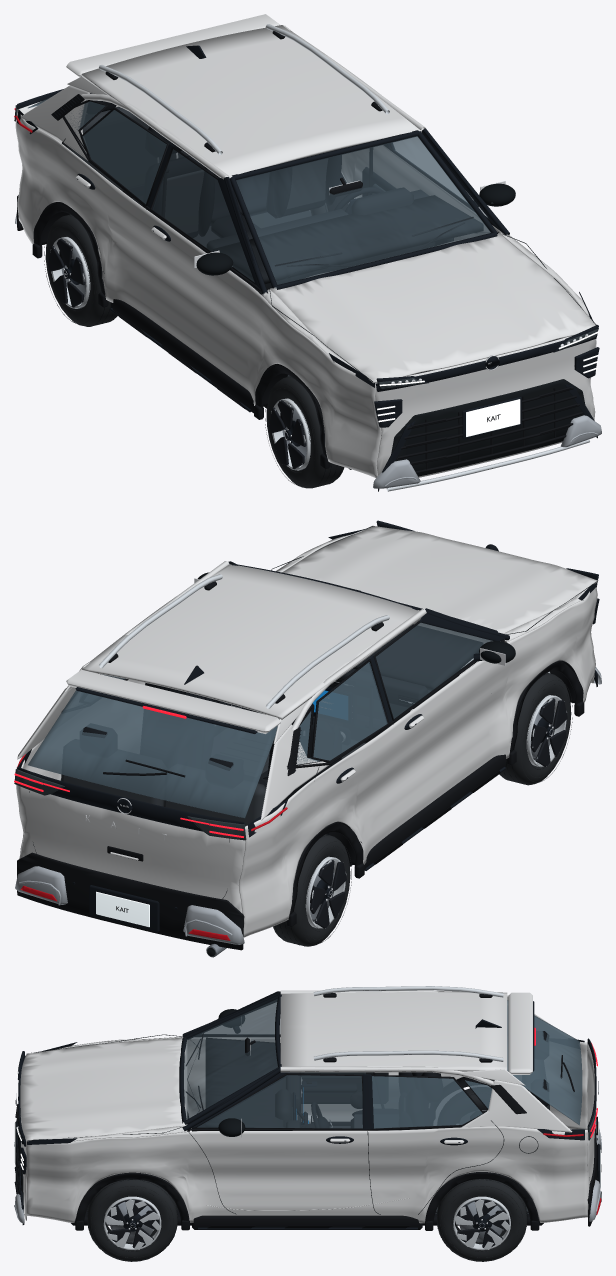
The model's file is kait.glb.
3 renders of one model, top to bottom at view 1: azimuth 30°, elevation 25°; view 2: azimuth 150°, elevation 25°; view 3: azimuth 270°, elevation 25°, orthographic. The views are drawn at different scales.
Visible parts, largest first — view 1: Nissan Kait; view 2: Nissan Kait; view 3: Nissan Kait.
Part boxes in pixels (x1,y1,x2,y2): Nissan Kait: [14, 14, 601, 491]; Nissan Kait: [14, 520, 601, 957]; Nissan Kait: [14, 986, 601, 1261].
Size of the model in its own units: 2.16 by 1.63 by 4.41.
